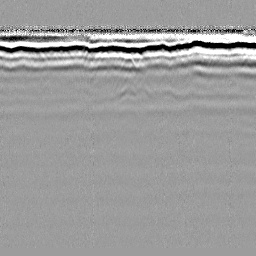cavity: (119, 52, 136, 69)
